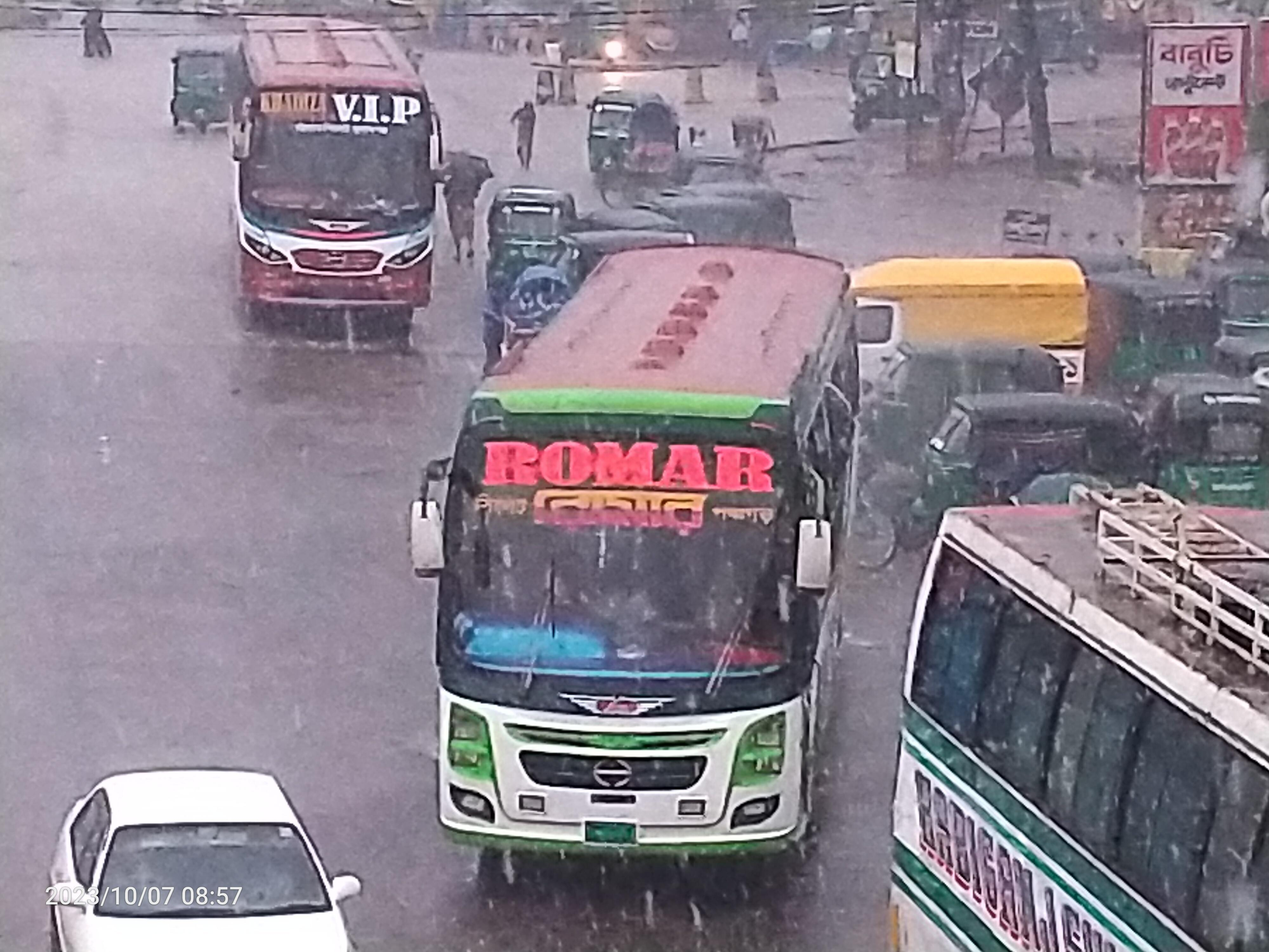Bus: (406, 226, 932, 890), (863, 470, 1269, 952), (214, 0, 453, 359)
Car: (0, 724, 417, 952), (849, 243, 1106, 427)
